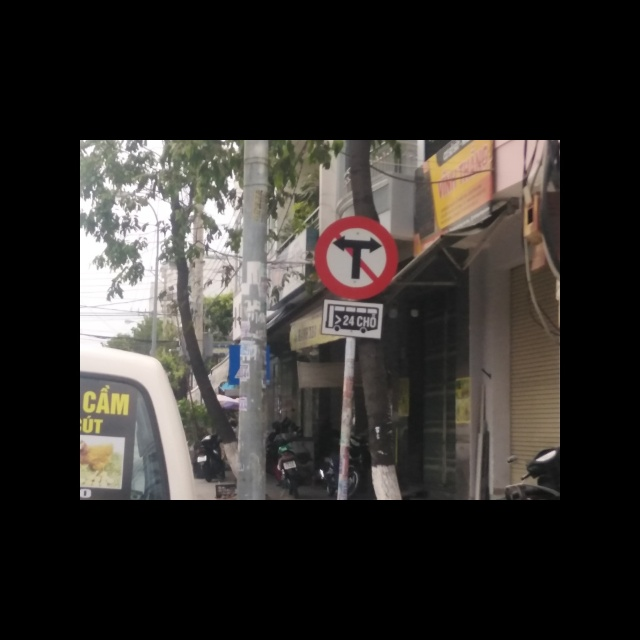Cấm rẽ trái và rẽ phải: (313, 215, 398, 300)
